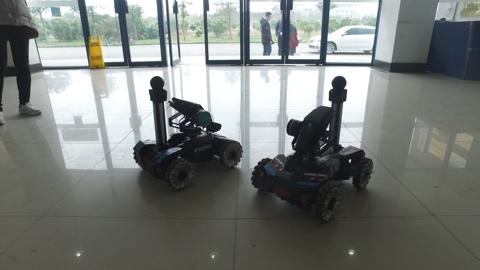chariot: (250, 74, 376, 232), (126, 73, 247, 200)
